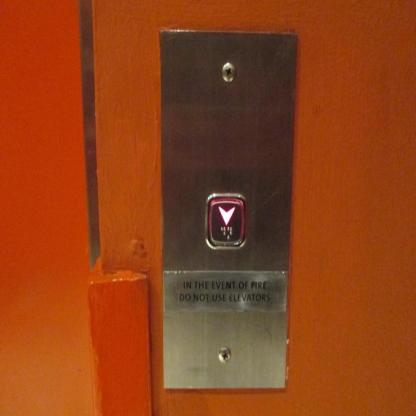down: (202, 188, 249, 253)
